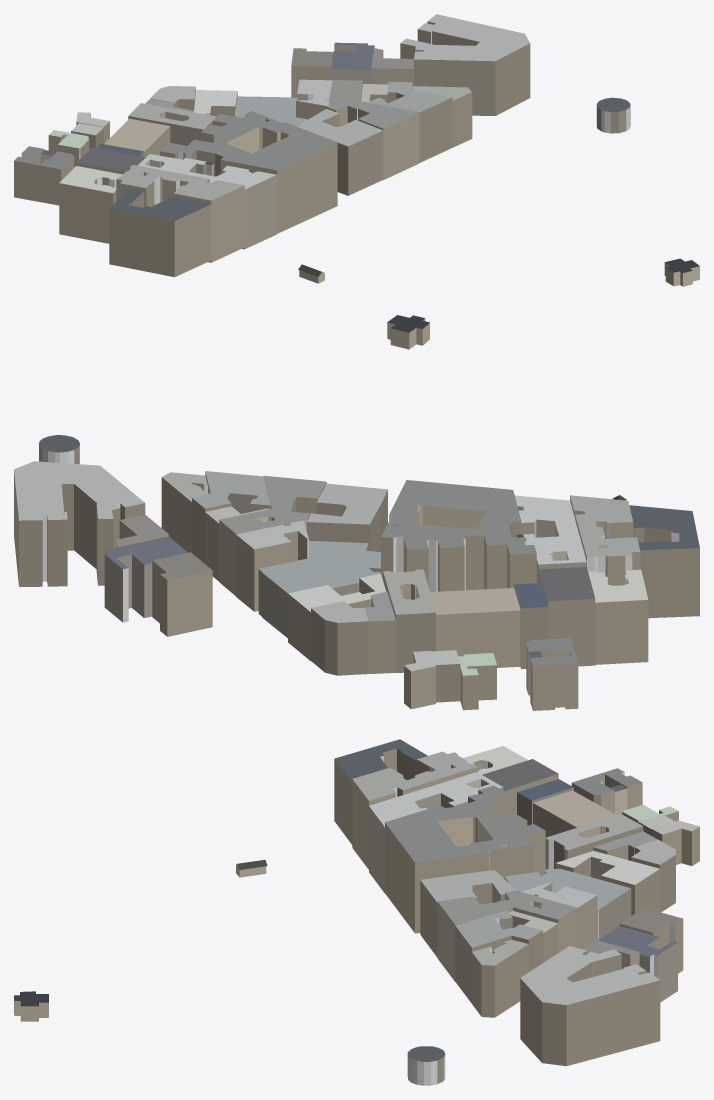
3 renders of one model, top to bottom at view 1: azimuth 30°, elevation 25°; view 2: azimuth 150°, elevation 25°; view 3: azimuth 270°, elevation 25°, orthographic. The views are drawn at different scales.
Visible parts, largest first — view 1: tuile; view 2: tuile; view 3: tuile.
Boxes of the visible parts, x1,y1,x2,y2 form: tuile: (14, 14, 699, 286); tuile: (14, 315, 699, 710); tuile: (14, 739, 699, 1085).
Bounding box in the file's own units: 262 × 30.45 × 262.
